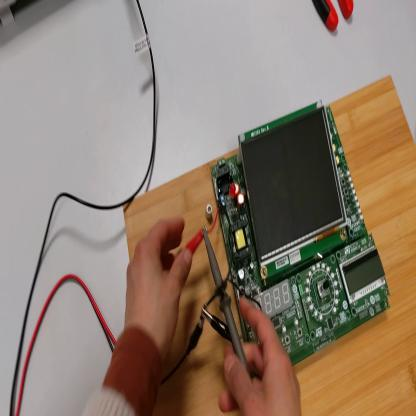hand: (220, 295, 302, 415), (125, 217, 192, 358)
low voltage board: (208, 105, 391, 365)
pliers: (314, 1, 354, 34)
working area: (123, 74, 416, 416)
